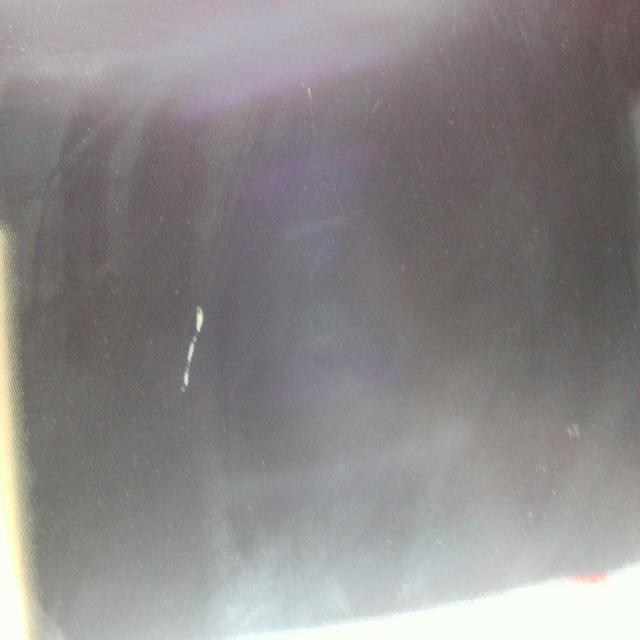scratch: (178, 302, 214, 393)
